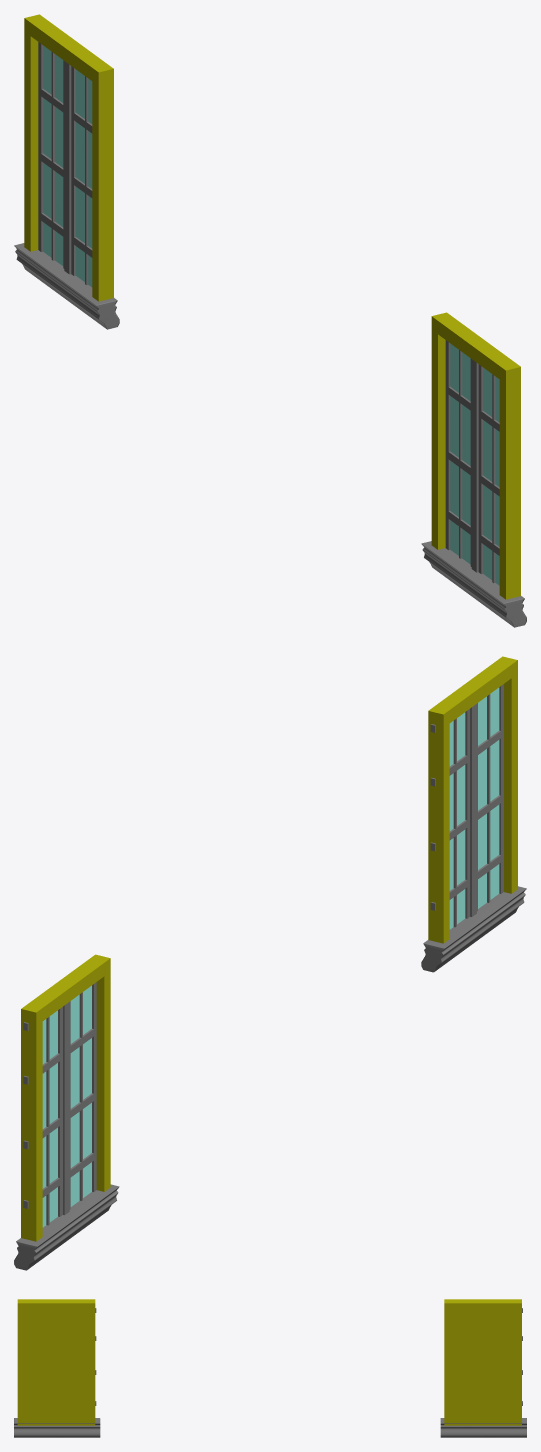
File: Window_DiningRoom02 (1).fbx
3 views of the same model, one above another, from view 1: azimuth 30°, elevation 25°; view 2: azimuth 150°, elevation 25°; view 3: azimuth 270°, elevation 25° (orthographic). The views are drawn at different scales.
Parts seen in each view (by area): view 1: polySurface36, polySurface36_1, polySurface35, polySurface35_1, pCube231, pCube231_1, pCube228, pCube228_1, pCube230, pCube230_1, pCube229, pCube229_1 (+4 smaller); view 2: polySurface36_1, polySurface36, polySurface35, polySurface35_1, pCube231_1, pCube231, pCube228_1, pCube228, pCube225_1, pCube227, pCube227_1, pCube225 (+4 smaller); view 3: polySurface36, polySurface36_1, pCube231_1, pCube231.
Boxes of the visible parts, left/top/right/bottom form: polySurface36: left=431, top=312, right=520, bottom=599; polySurface36_1: left=24, top=14, right=113, bottom=301; polySurface35: left=450, top=343, right=499, bottom=585; polySurface35_1: left=43, top=46, right=92, bottom=287; pCube231: left=421, top=541, right=526, bottom=627; pCube231_1: left=14, top=243, right=119, bottom=329; pCube228: left=471, top=359, right=478, bottom=572; pCube228_1: left=64, top=61, right=71, bottom=274; pCube230: left=445, top=340, right=450, bottom=550; pCube230_1: left=38, top=42, right=43, bottom=251; pCube229: left=478, top=364, right=482, bottom=574; pCube229_1: left=71, top=66, right=75, bottom=275; polySurface36_1: left=21, top=954, right=110, bottom=1241; polySurface36: left=428, top=656, right=517, bottom=943; polySurface35: left=449, top=687, right=499, bottom=929; polySurface35_1: left=42, top=985, right=91, bottom=1227; pCube231_1: left=14, top=1184, right=119, bottom=1270; pCube231: left=421, top=886, right=526, bottom=972; pCube228_1: left=63, top=1002, right=69, bottom=1215; pCube228: left=470, top=704, right=476, bottom=916; pCube225_1: left=92, top=982, right=96, bottom=1191; pCube227: left=465, top=709, right=469, bottom=918; pCube227_1: left=58, top=1007, right=62, bottom=1216; pCube225: left=499, top=684, right=503, bottom=893; polySurface36: left=17, top=1299, right=95, bottom=1425; polySurface36_1: left=444, top=1299, right=521, bottom=1425; pCube231_1: left=440, top=1418, right=526, bottom=1437; pCube231: left=14, top=1418, right=100, bottom=1437.
Size of the model in its own units: 33.88 by 351 by 1218.
